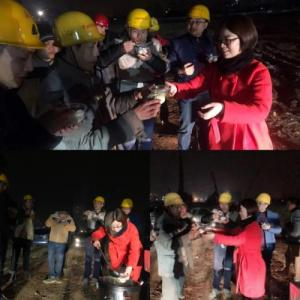none: (217, 14, 261, 61), (36, 24, 60, 60), (105, 209, 127, 236), (238, 198, 260, 222), (286, 196, 299, 214)
red: (93, 13, 111, 35)
yellow: (2, 2, 39, 90), (54, 11, 104, 70), (125, 9, 155, 44), (187, 6, 212, 38), (165, 193, 185, 217), (219, 192, 234, 213), (121, 198, 136, 216), (258, 193, 272, 212), (93, 196, 107, 211), (23, 195, 36, 211)
